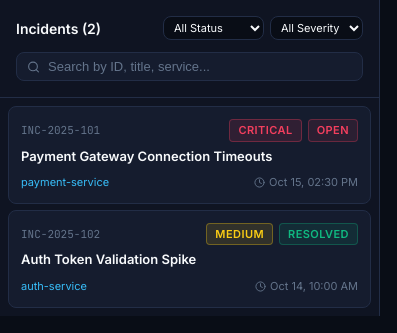
Test: IncidentList Component › filters incidents by search term
Type "payment" into the field with placeholder "Search by ID, title, service..." at (200, 66), box [48, 59, 352, 74]
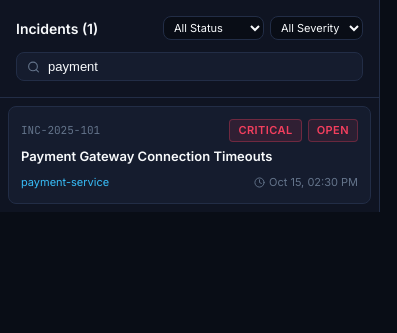
Expected: the text "Payment Gateway Connection Timeouts" is shown, [21, 148, 272, 164]
Expected: the text "Auth Token Validation Spike" is gone
